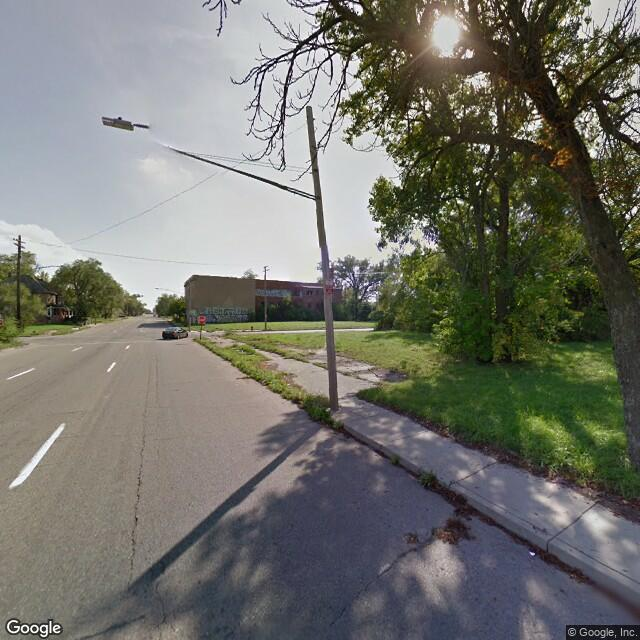litter: (521, 546, 540, 562)
